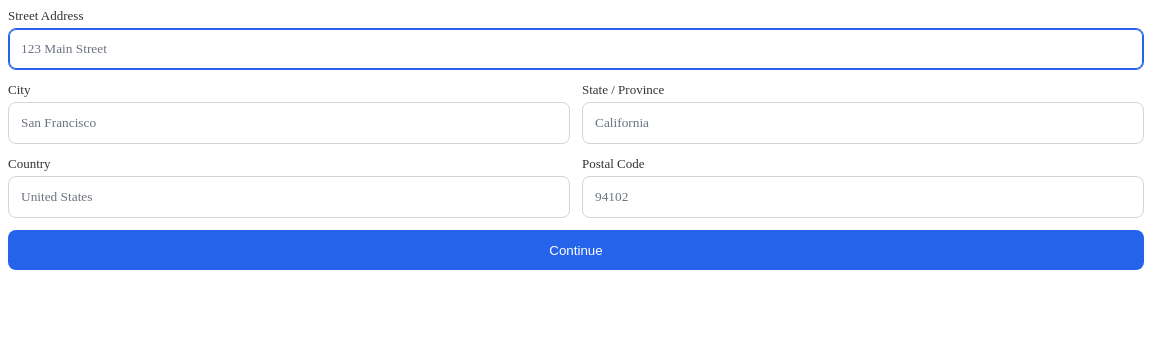
Scenario: AddressForm › shows validation errors on submit with empty fields
Click the button "Continue": point(576, 250) [8,230,1144,270]
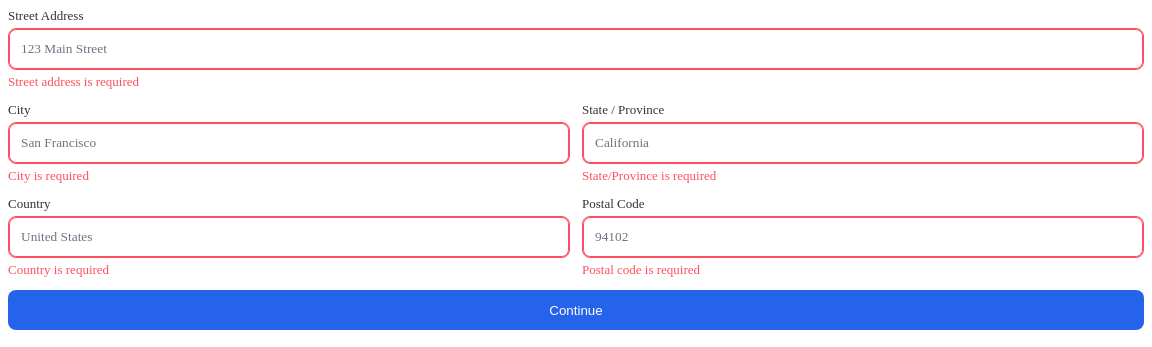
Now the text "Street address is required" is shown, box [8,74,139,89]
Now the text "City is required" is shown, box [8,168,89,183]
Now the text "State/Province is required" is shown, box [582,168,716,183]
